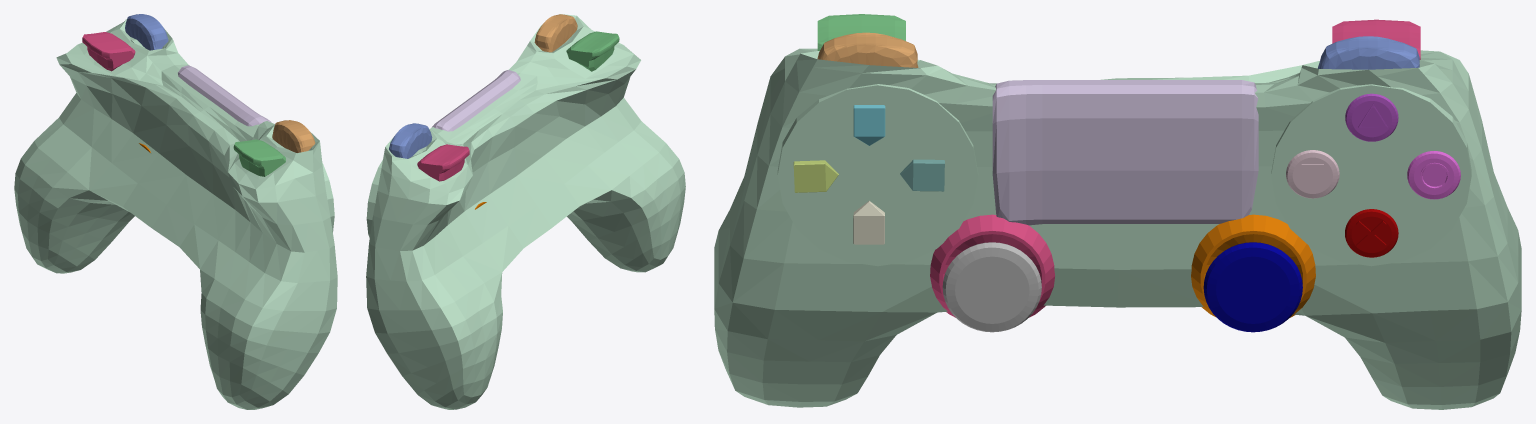
File: full_2.glb
3 views of the same model, side by side, from view 1: azimuth 30°, elevation 25°; view 2: azimuth 150°, elevation 25°; view 3: azimuth 270°, elevation 25° (orthographic). The views are drawn at different scales.
Visible parts, largest first — view 1: world; view 2: world; view 3: world.
Part boxes in pixels (x1,y1,x2,y2): world: [14, 14, 337, 409]; world: [366, 14, 685, 409]; world: [714, 14, 1521, 409].
Size of the model in its own units: 0.2683 by 0.4843 by 0.8327.
